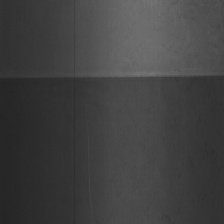welding_line: (1, 68, 224, 88)
